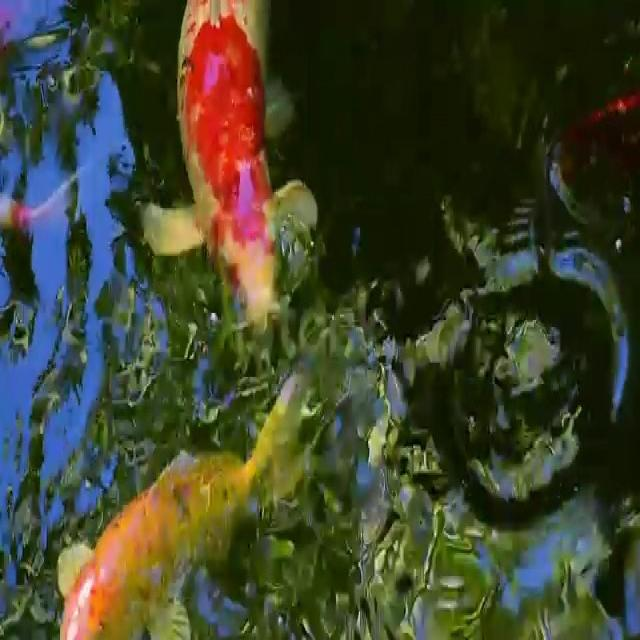fish: (41, 359, 346, 640), (136, 4, 324, 345)
